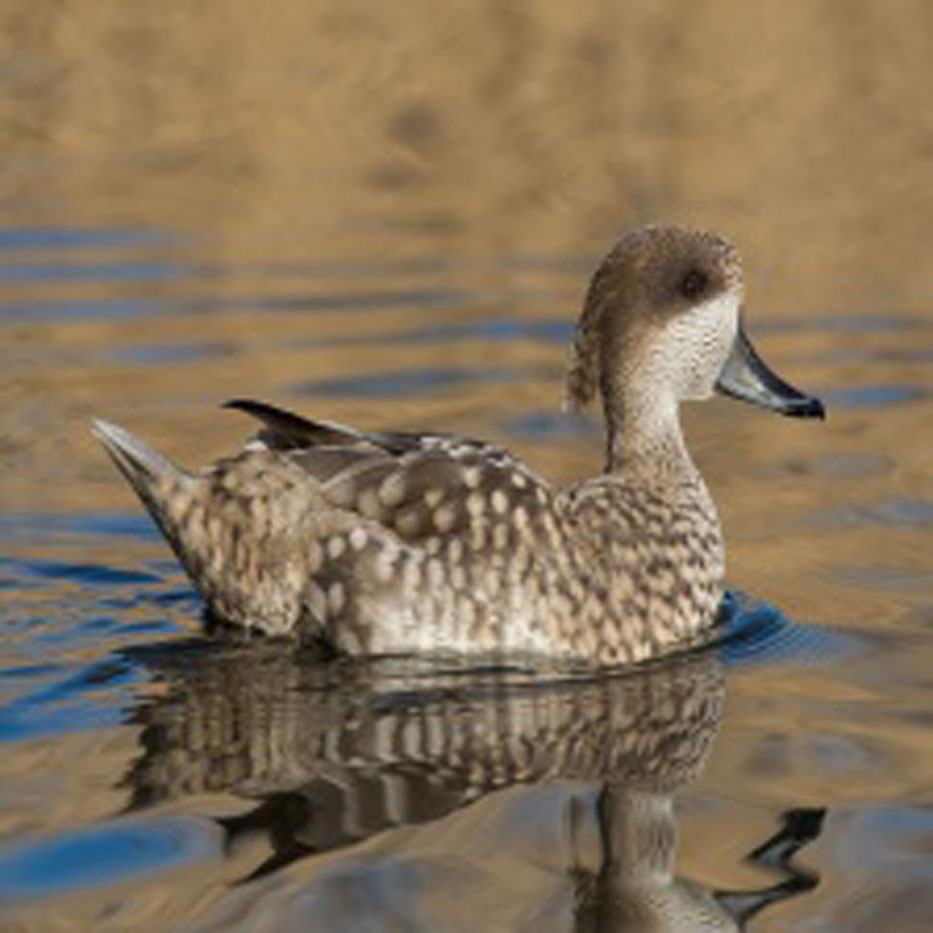Mencari Makan di Lumpur: (711, 334, 838, 429)
